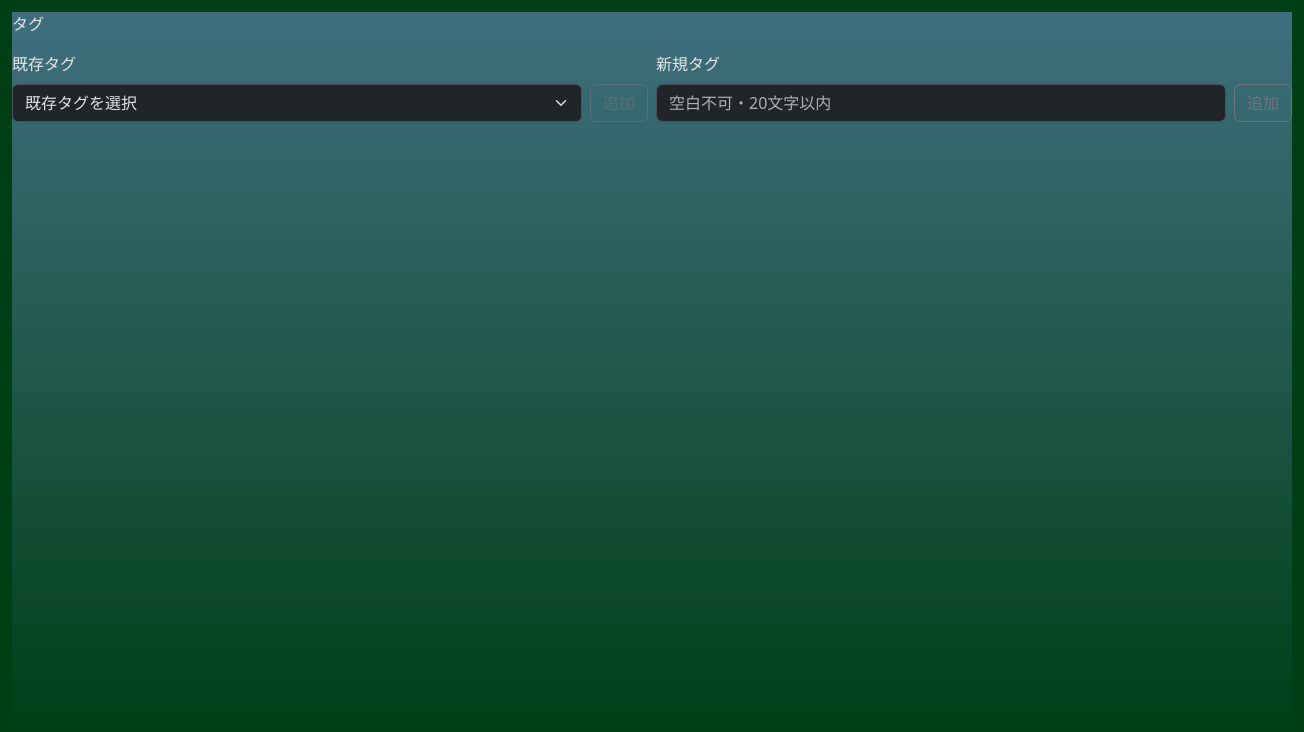
Test case: NoticeTagPicker › rejects whitespace in a new tag
The image size is (1304, 732).
Type "new tag" into the field labelled "新規タグ" at (941, 103), box left=656, top=84, right=1226, bottom=122
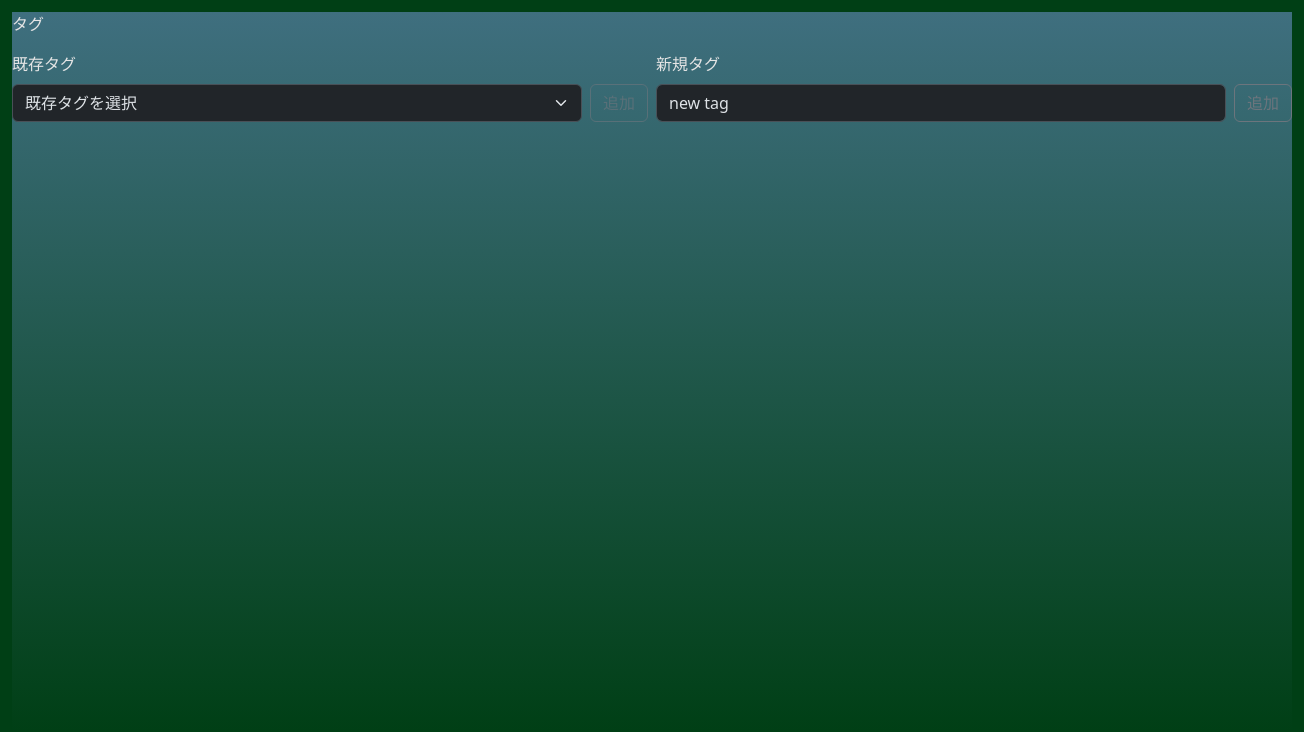
Click the 2nd button "追加" at (1263, 103), box left=1234, top=84, right=1292, bottom=122
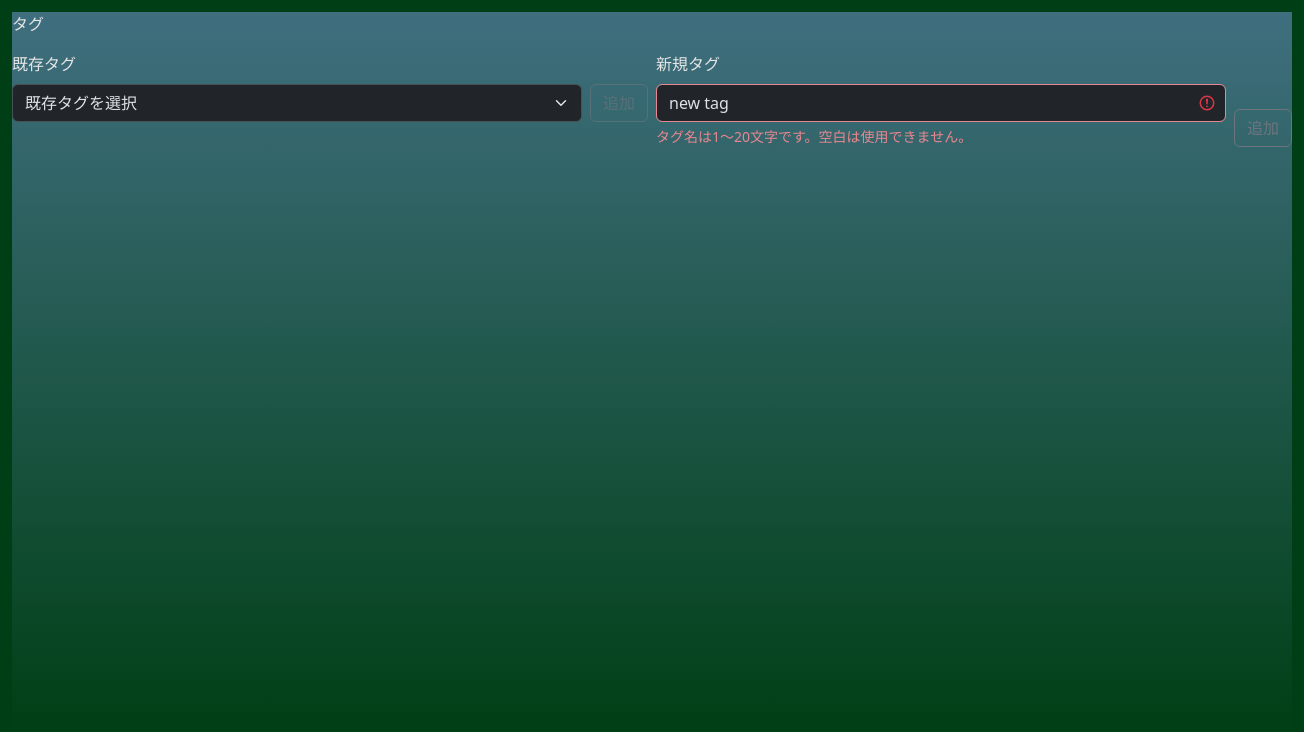
Expected: the text with class "invalid-feedback" shows "空白", left=656, top=127, right=972, bottom=146
